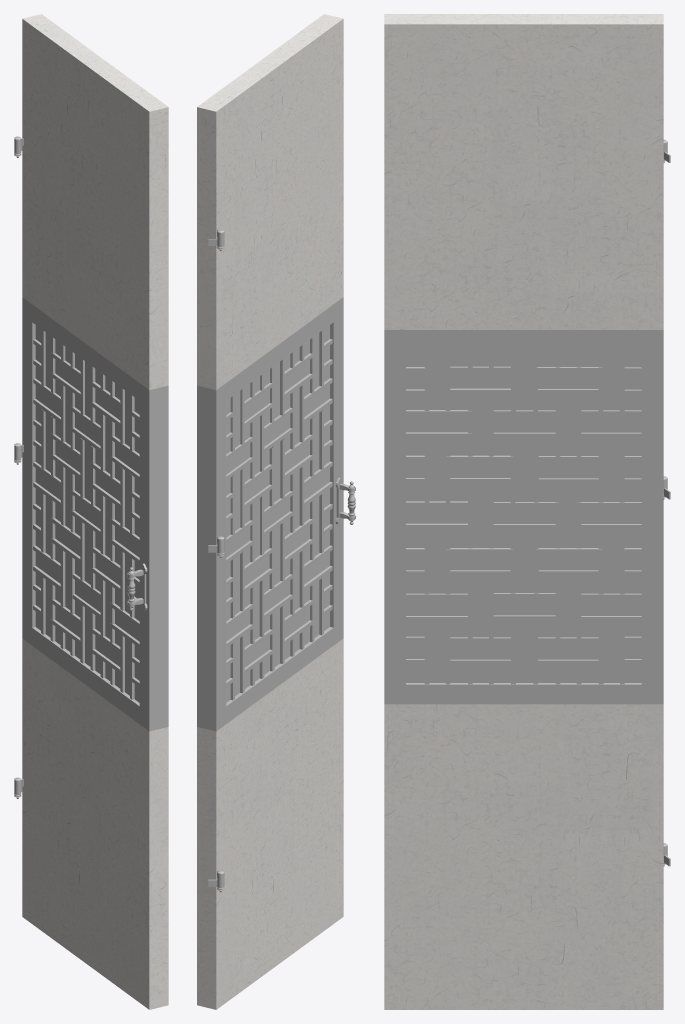
Rendered from SM_Door07G.fbx.
3 renders of one model, left to right at view 1: azimuth 30°, elevation 25°; view 2: azimuth 150°, elevation 25°; view 3: azimuth 270°, elevation 25°, orthographic. The views are drawn at different scales.
Visible parts, largest first — view 1: SM_Door07G; view 2: SM_Door07G; view 3: SM_Door07G.
Part boxes in pixels (x1,y1,x2,y2): SM_Door07G: (14,14,168,1009); SM_Door07G: (197,14,355,1009); SM_Door07G: (384,14,670,1009).
Size of the model in its own units: 9.88 by 62.84 by 239.
